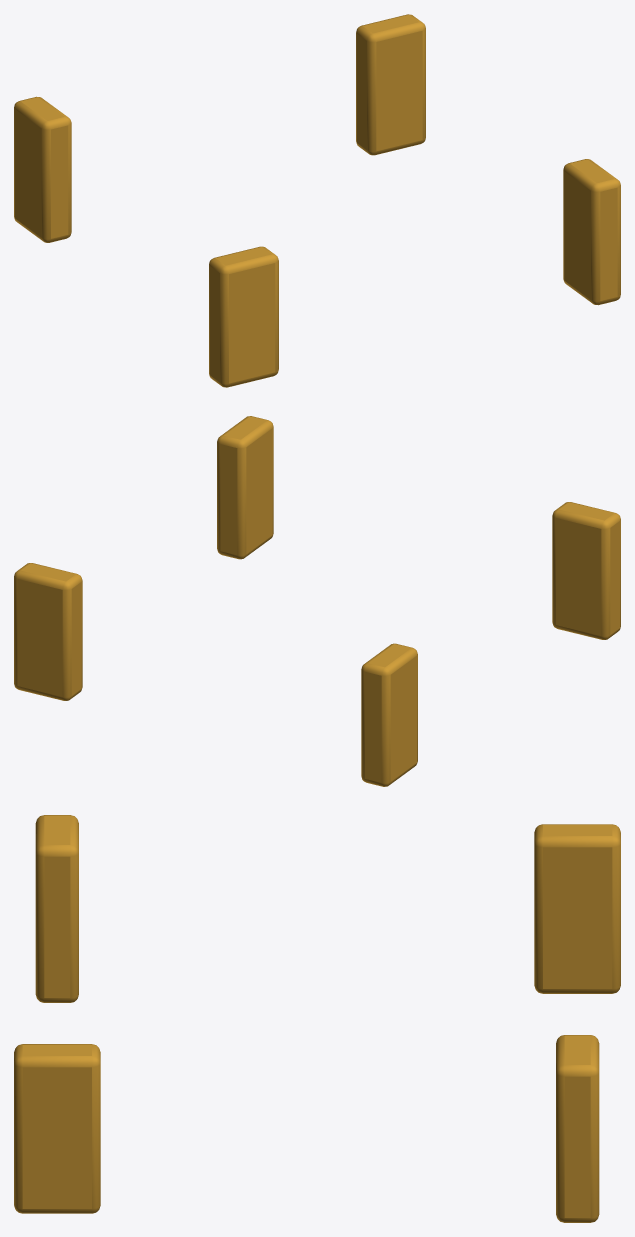
Rendered from BB_Reusable_Mechanism_Bracket.obj.
3 renders of one model, top to bottom at view 1: azimuth 30°, elevation 25°; view 2: azimuth 150°, elevation 25°; view 3: azimuth 270°, elevation 25°, orthographic. The views are drawn at different scales.
Visible parts, largest first — view 1: Mechanism_Bracket; view 2: Mechanism_Bracket; view 3: Mechanism_Bracket.
Part boxes in pixels (box(x1,y1,x2,y2)): Mechanism_Bracket: box(14, 14, 620, 387); Mechanism_Bracket: box(14, 416, 620, 786); Mechanism_Bracket: box(14, 815, 620, 1222).
Size of the model in its own units: 0.7 by 0.2 by 0.7.
